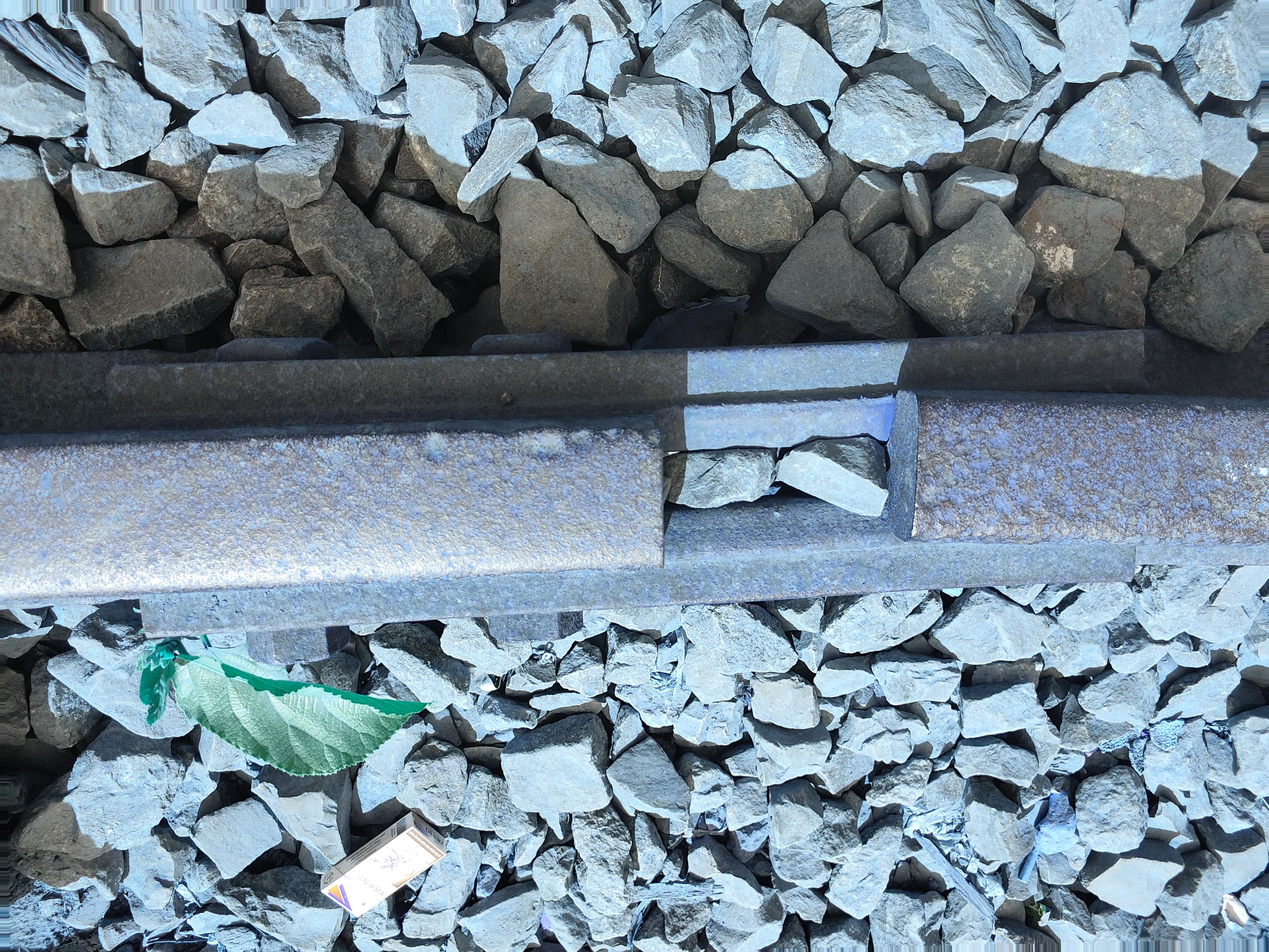tracks_fault: (598, 308, 990, 655)
